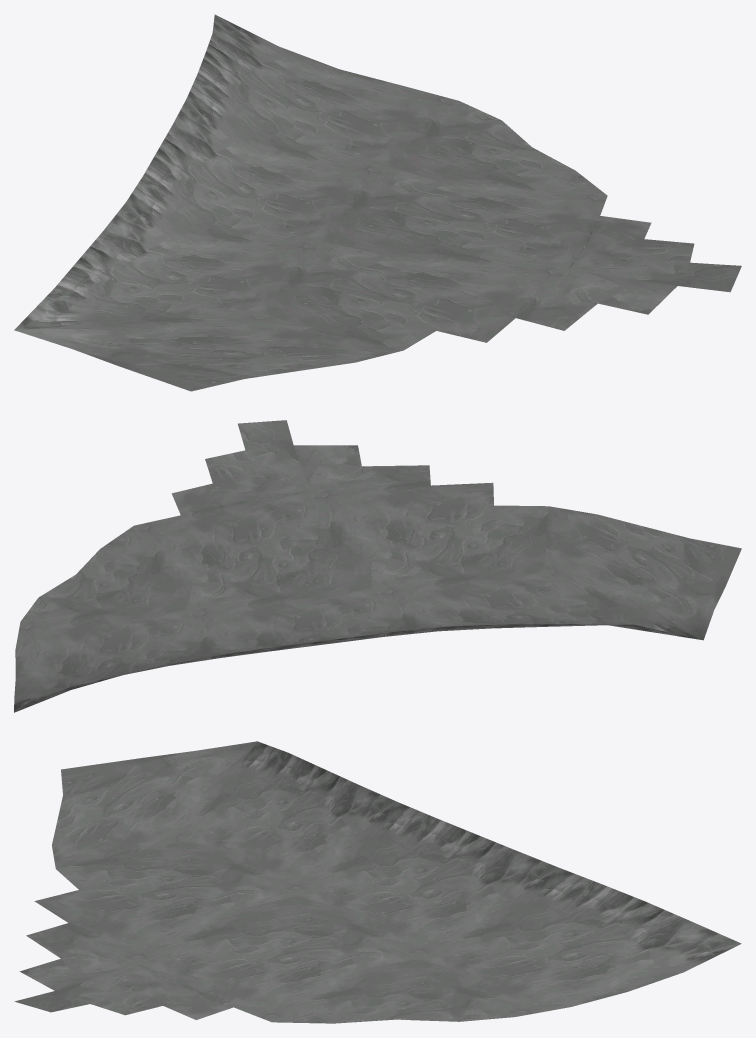
Rendered from SWORDLIGHT20_PS-AREA04_29.fbx.
The picture shows the model from 3 angles, top to bottom: view 1: azimuth 30°, elevation 25°; view 2: azimuth 150°, elevation 25°; view 3: azimuth 270°, elevation 25°; orthographic projection. The views are drawn at different scales.
Visible parts, largest first — view 1: SWORDLIGHT20_PS-AREA04_29; view 2: SWORDLIGHT20_PS-AREA04_29; view 3: SWORDLIGHT20_PS-AREA04_29.
Part boxes in pixels (x1,y1,x2,y2): SWORDLIGHT20_PS-AREA04_29: (14,14,741,391); SWORDLIGHT20_PS-AREA04_29: (14,420,741,712); SWORDLIGHT20_PS-AREA04_29: (14,741,741,1023).
Bounding box in the file's own units: 123678 × 8958 × 141038.
Materials: 2 (2 with a texture image).
